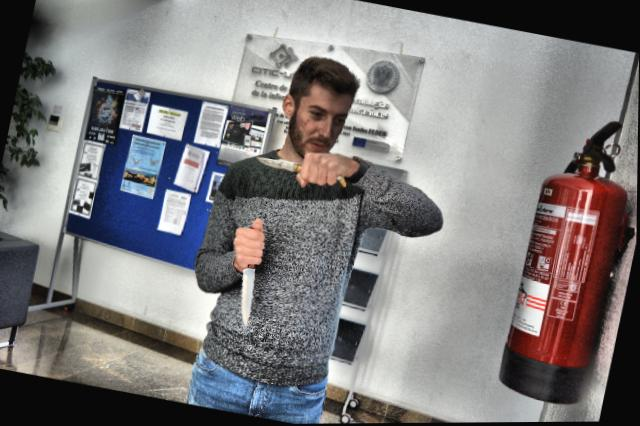knife: (247, 150, 354, 192), (229, 259, 266, 331)
